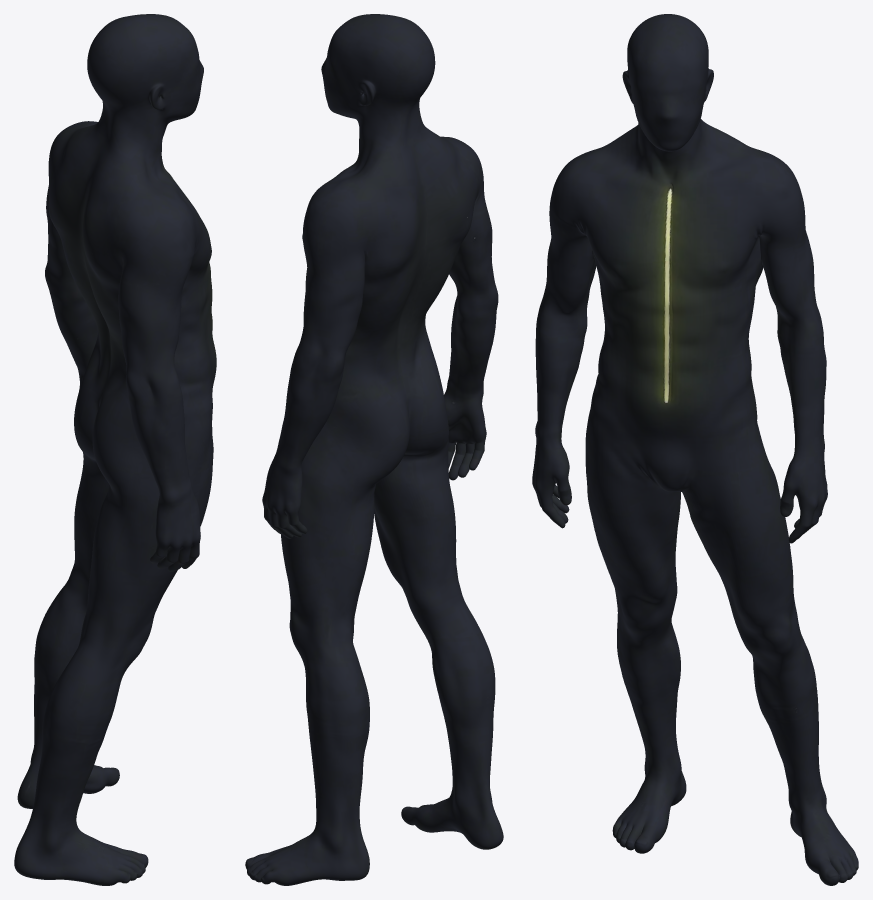
The picture shows the model from 3 angles, left to right: view 1: azimuth 30°, elevation 25°; view 2: azimuth 150°, elevation 25°; view 3: azimuth 270°, elevation 25°; orthographic projection. The views are drawn at different scales.
Visible parts, largest first — view 1: tripo_node_1c4efd4c-0341-4472-b0a7-e668aee7a27b; view 2: tripo_node_1c4efd4c-0341-4472-b0a7-e668aee7a27b; view 3: tripo_node_1c4efd4c-0341-4472-b0a7-e668aee7a27b.
Boxes of the visible parts, left/top/right/bottom form: tripo_node_1c4efd4c-0341-4472-b0a7-e668aee7a27b: left=14, top=14, right=216, bottom=885; tripo_node_1c4efd4c-0341-4472-b0a7-e668aee7a27b: left=245, top=14, right=503, bottom=885; tripo_node_1c4efd4c-0341-4472-b0a7-e668aee7a27b: left=532, top=14, right=858, bottom=885.
Bounding box in the file's own units: 0.4342 × 1.8 × 0.6349.
1 material, 1 textured.
